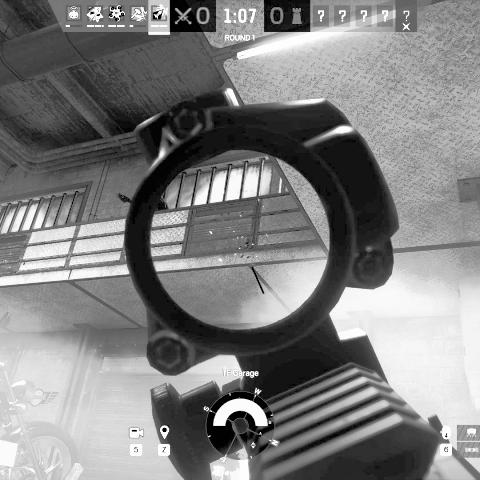Character: (115, 190, 171, 214)
